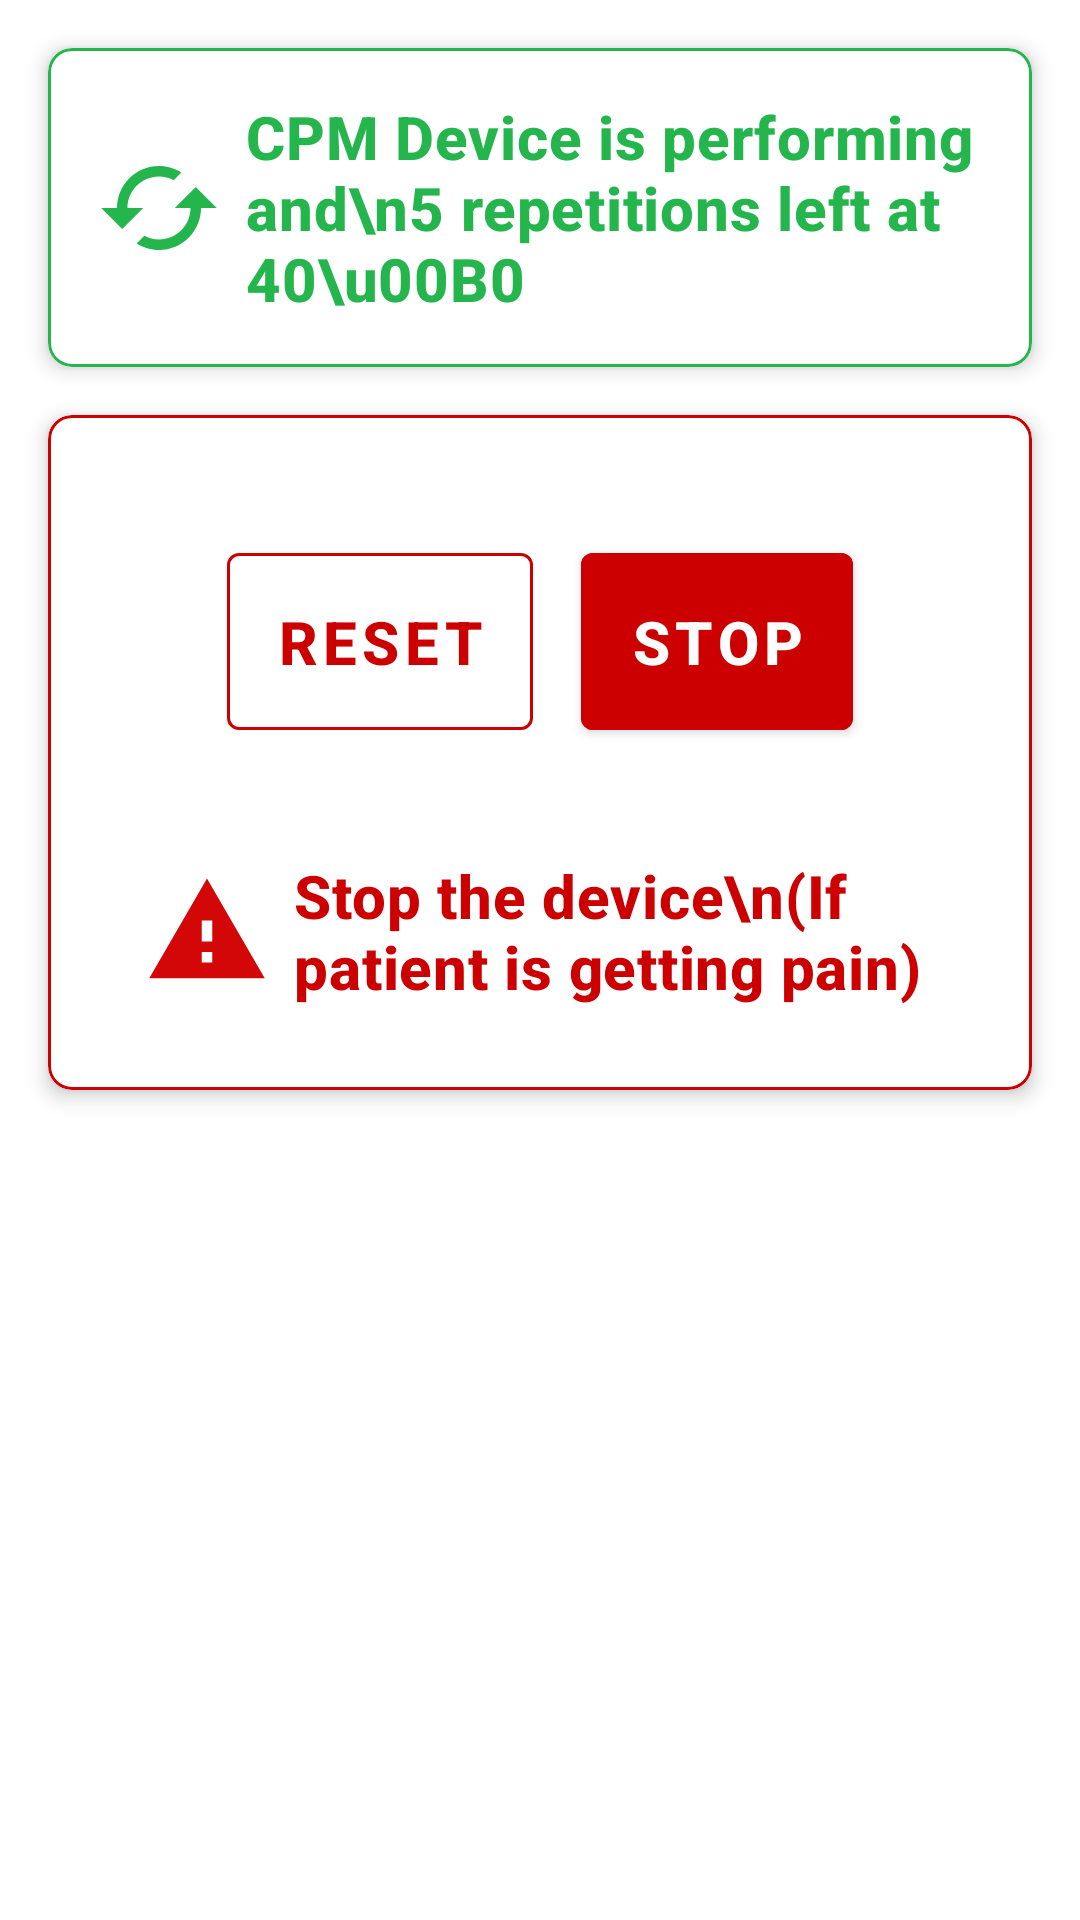

Locate icon controls on the screen. Image size 1080px x 1920px, boxes as box(x1, y1, x2, y2).
warning: box(149, 879, 265, 979)
